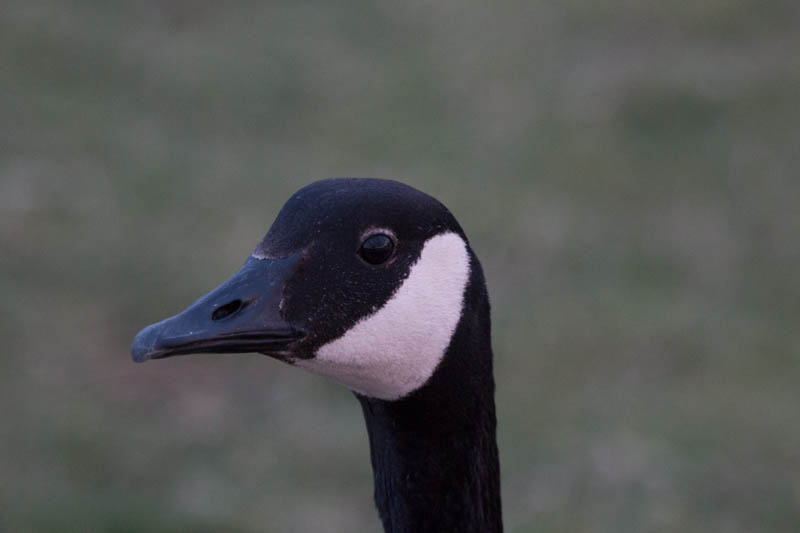goose-head: (131, 177, 491, 404)
